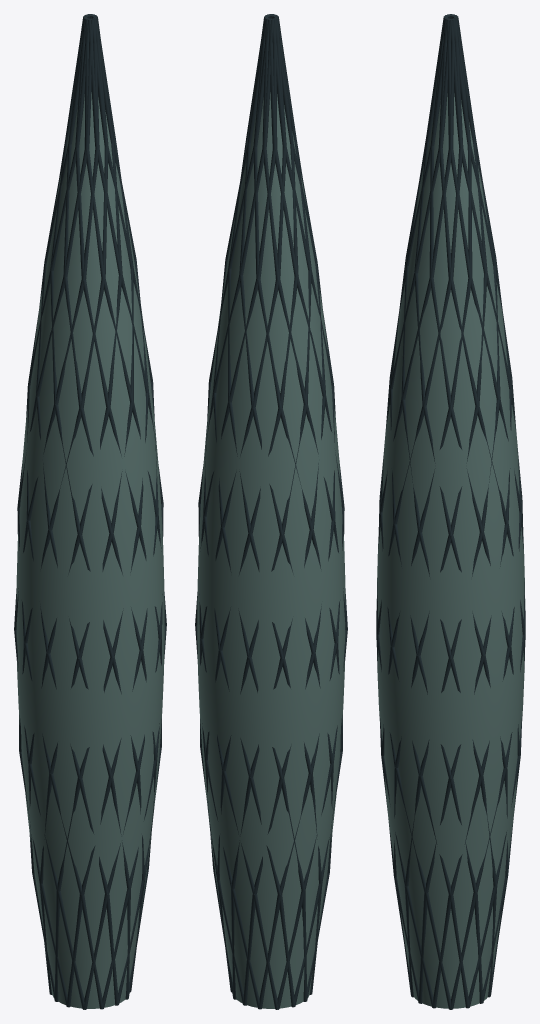
The model's file is gherkin.glb.
The picture shows the model from 3 angles, left to right: view 1: azimuth 30°, elevation 25°; view 2: azimuth 150°, elevation 25°; view 3: azimuth 270°, elevation 25°; orthographic projection.
Visible parts, largest first — view 1: gherkin; view 2: gherkin; view 3: gherkin.
Part boxes in pixels (bbox=[...]): gherkin: bbox=[14, 14, 166, 1009]; gherkin: bbox=[195, 14, 347, 1009]; gherkin: bbox=[376, 14, 525, 1009].
Bounding box in the file's own units: 0.5163 × 3.64 × 0.5057.
